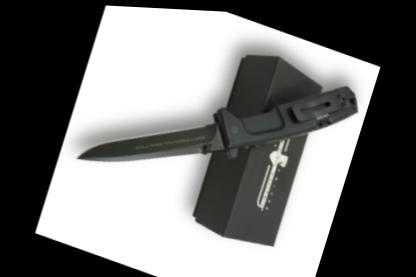knife: (72, 54, 258, 216)
